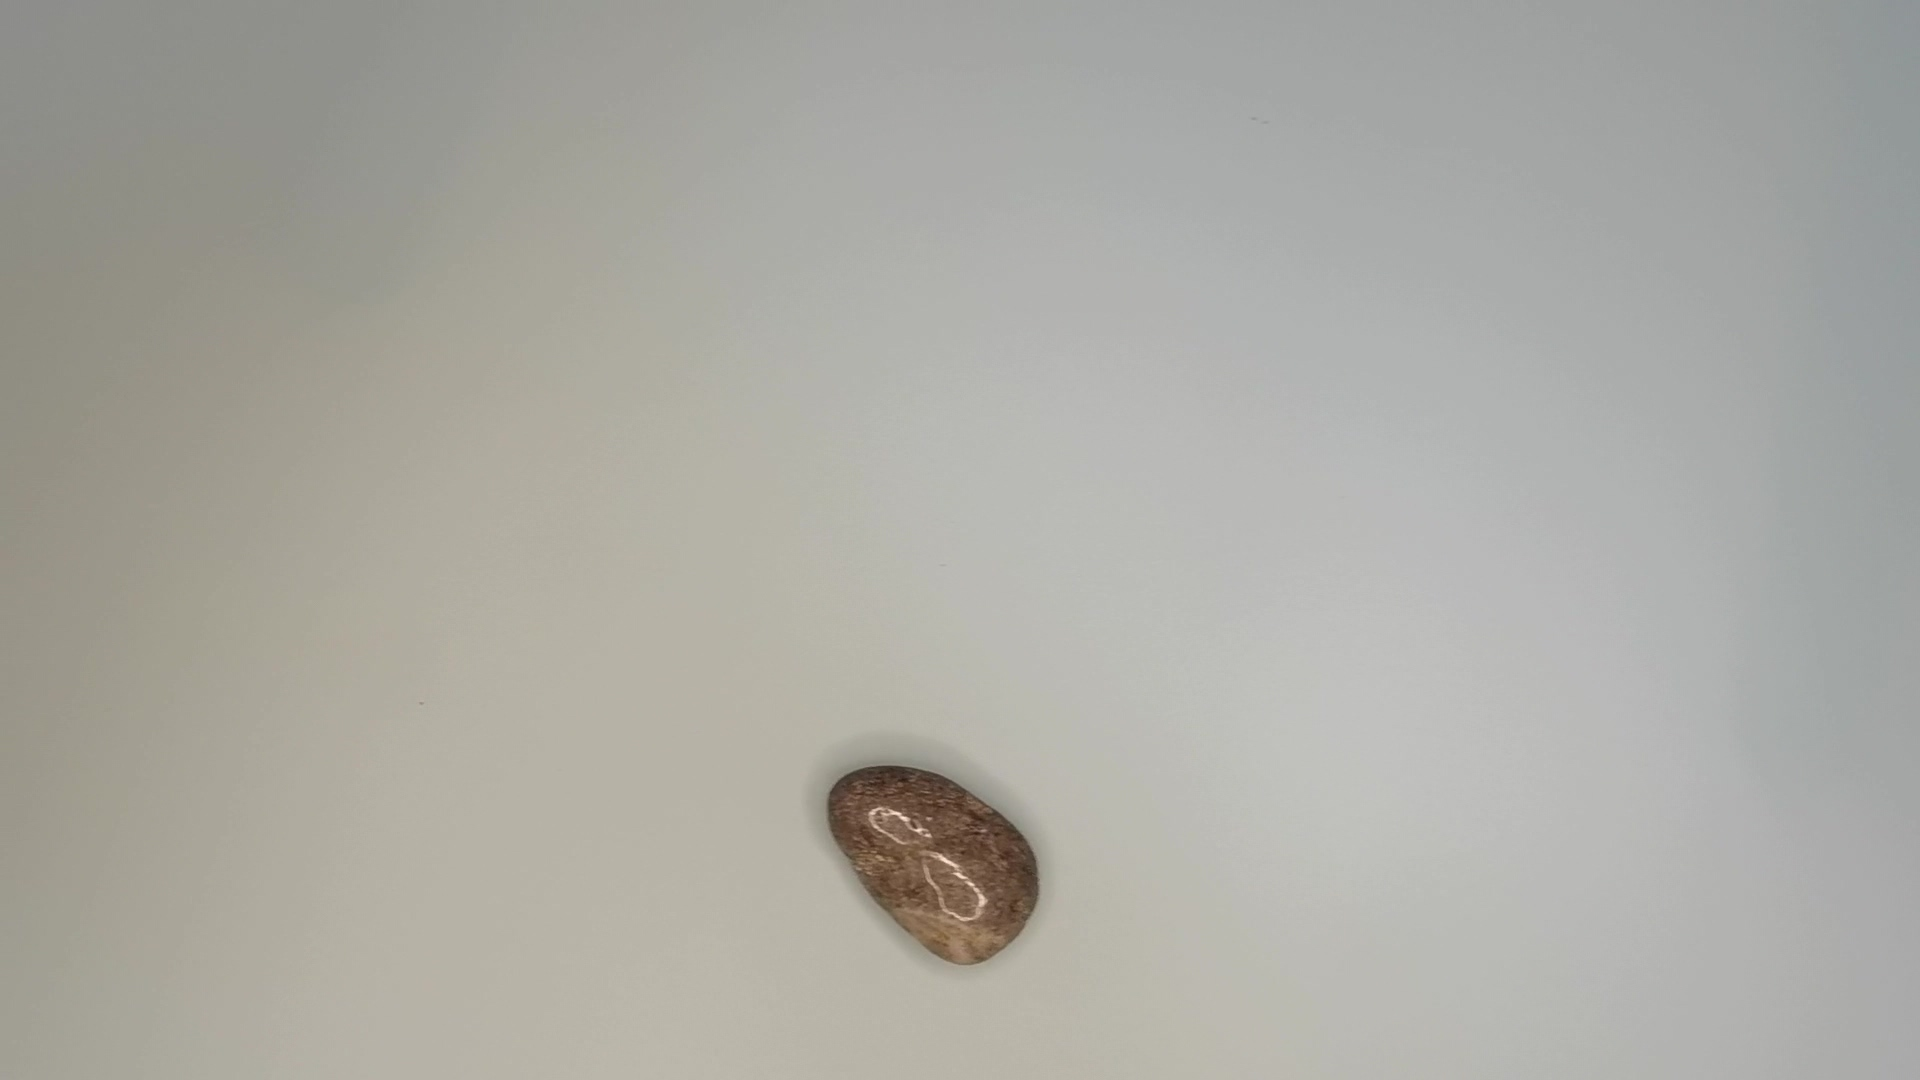ceramic: (825, 760, 1043, 971)
